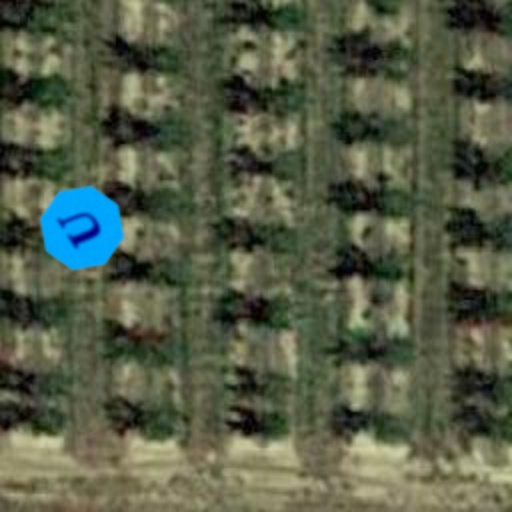octagon: (22, 168, 142, 288)
